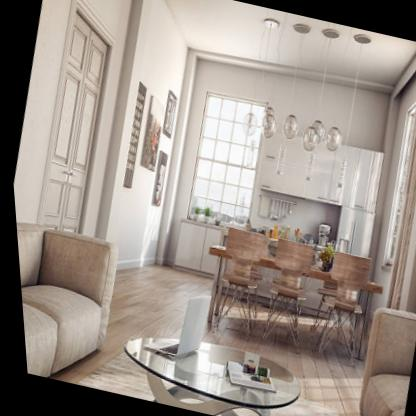Door: (34, 0, 117, 233)
Window: (176, 94, 271, 226)
